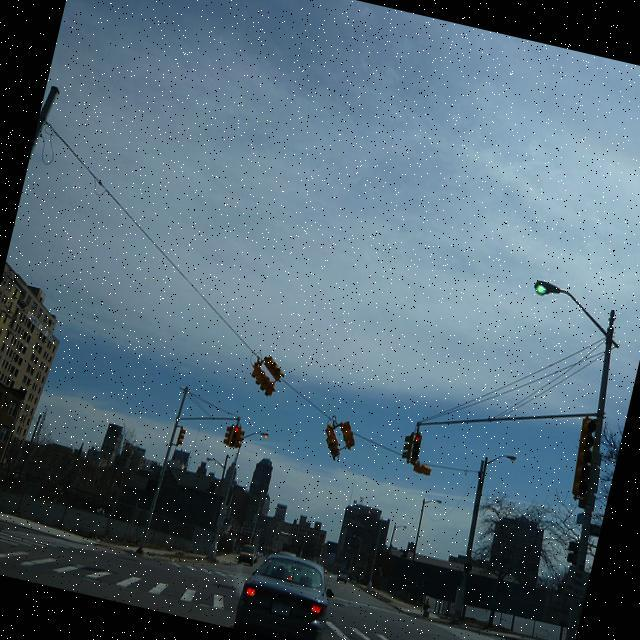fire_hydrant: (421, 598, 432, 616)
